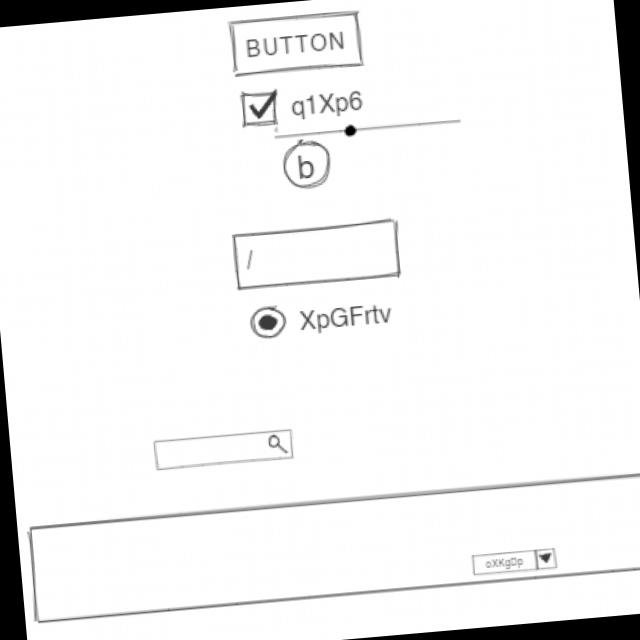button: (226, 4, 364, 80)
checkbox: (237, 76, 367, 128)
container: (20, 465, 640, 625)
icon-button: (279, 137, 335, 190)
input: (230, 216, 404, 295)
radio: (246, 290, 396, 344)
search: (150, 426, 297, 474)
select: (468, 545, 559, 576)
slider: (270, 110, 467, 146)
